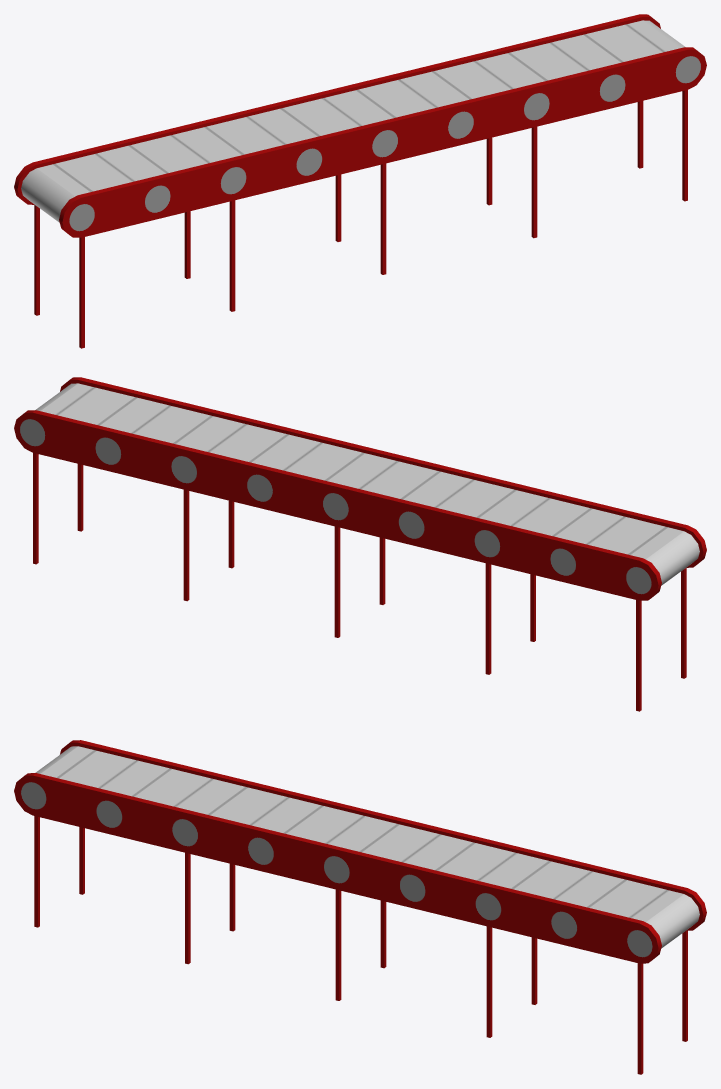
The model's file is BeltConveyor.fbx.
3 views of the same model, one above another, from view 1: azimuth 30°, elevation 25°; view 2: azimuth 150°, elevation 25°; view 3: azimuth 330°, elevation 25° (orthographic).
Parts seen in each view (by area): view 1: pCube2, pCube6, pCube8, pCube10, pCube5, pCube12, pCube4; view 2: pCube2, pCube7, pCube9, pCube11, pCube4, pCube13, pCube5; view 3: pCube2, pCube12, pCube8, pCube10, pCube5, pCube6, pCube13.
Part boxes in pixels (bbox=[...]): pCube2: bbox=[14, 14, 706, 237]; pCube6: bbox=[229, 200, 235, 311]; pCube8: bbox=[380, 163, 386, 274]; pCube10: bbox=[531, 126, 537, 238]; pCube5: bbox=[79, 237, 84, 348]; pCube12: bbox=[682, 90, 687, 201]; pCube4: bbox=[34, 205, 39, 315]; pCube2: bbox=[14, 377, 706, 600]; pCube7: bbox=[485, 563, 491, 674]; pCube9: bbox=[334, 526, 340, 637]; pCube11: bbox=[183, 489, 189, 601]; pCube4: bbox=[636, 600, 641, 711]; pCube13: bbox=[33, 453, 38, 564]; pCube5: bbox=[681, 568, 686, 678]; pCube2: bbox=[14, 740, 706, 963]; pCube12: bbox=[637, 963, 643, 1074]; pCube8: bbox=[335, 889, 341, 1000]; pCube10: bbox=[486, 926, 492, 1037]; pCube5: bbox=[34, 816, 39, 927]; pCube6: bbox=[185, 852, 190, 964]; pCube13: bbox=[682, 930, 687, 1041].
Size of the model in its own units: 387 by 87.03 by 50.34.
